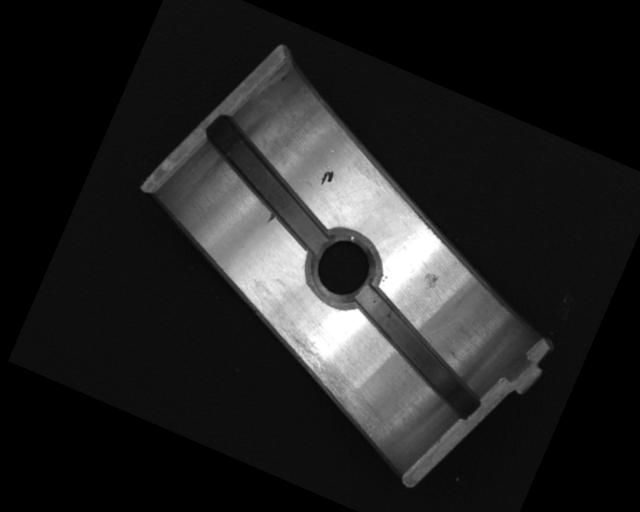blot: (318, 167, 337, 190)
bruise: (419, 269, 440, 292), (265, 211, 278, 226)
gap: (183, 114, 355, 255), (330, 286, 501, 421)
hole: (296, 220, 390, 317)
scratch: (243, 316, 416, 448)
